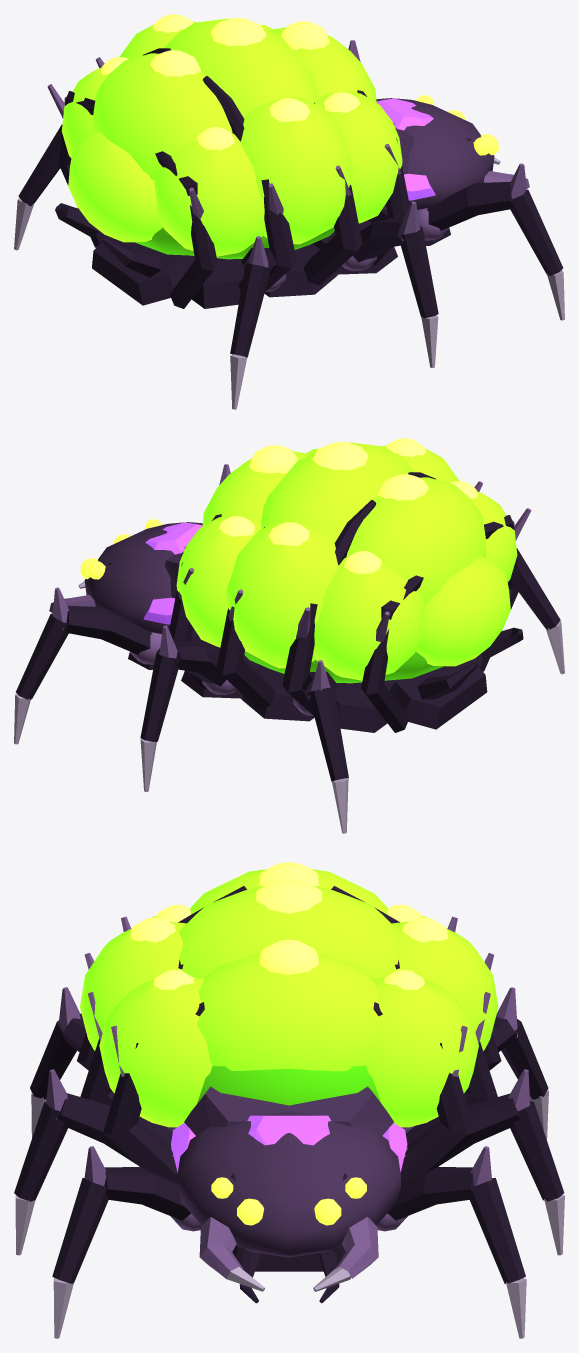
The model's file is sporeburst.glb.
3 views of the same model, one above another, from view 1: azimuth 30°, elevation 25°; view 2: azimuth 150°, elevation 25°; view 3: azimuth 270°, elevation 25° (orthographic). The views are drawn at different scales.
Parts seen in each view (by area): view 1: SacMain, BodyRibs, BodyChitin, SacPustules, LegFR, LegMR, LegRR, LegRL, Surf_TEAM, Surf_GLOW; view 2: SacMain, BodyRibs, BodyChitin, SacPustules, LegFL, LegML, LegRL, LegRR, Surf_TEAM, Surf_GLOW; view 3: SacMain, BodyChitin, BodyRibs, SacPustules, LegFL, LegFR, LegML, LegMR, Surf_TEAM, LegRL, LegRR, Surf_GLOW.
Part boxes in pixels (<box>): SacMain: <box>61,18,402,259</box>; BodyRibs: <box>55,48,500,308</box>; BodyChitin: <box>47,57,529,219</box>; SacPustules: <box>100,14,360,150</box>; LegFR: <box>417,163,564,320</box>; LegMR: <box>342,201,438,367</box>; LegRR: <box>230,236,285,409</box>; LegRL: <box>14,97,66,250</box>; Surf_TEAM: <box>376,98,435,200</box>; Surf_GLOW: <box>416,95,498,155</box>; SacMain: <box>176,442,517,683</box>; BodyRibs: <box>78,472,523,732</box>; BodyChitin: <box>49,481,531,641</box>; SacPustules: <box>219,438,478,574</box>; LegFL: <box>14,587,161,744</box>; LegML: <box>140,625,236,791</box>; LegRL: <box>293,660,348,833</box>; LegRR: <box>512,520,564,674</box>; Surf_TEAM: <box>143,522,202,624</box>; Surf_GLOW: <box>80,519,162,579</box>; SacMain: <box>80,869,498,1127</box>; BodyChitin: <box>84,916,493,1278</box>; BodyRibs: <box>77,886,501,1303</box>; SacPustules: <box>130,862,447,989</box>; LegFL: <box>376,1146,526,1338</box>; LegFR: <box>52,1146,201,1338</box>; LegML: <box>404,1069,564,1255</box>; LegMR: <box>14,1069,173,1255</box>; Surf_TEAM: <box>171,1115,407,1172</box>; LegRL: <box>401,987,548,1139</box>; LegRR: <box>30,987,176,1137</box>; Surf_GLOW: <box>211,1177,366,1225</box>.
Size of the model in its own units: 1.84 by 1.13 by 1.73.
